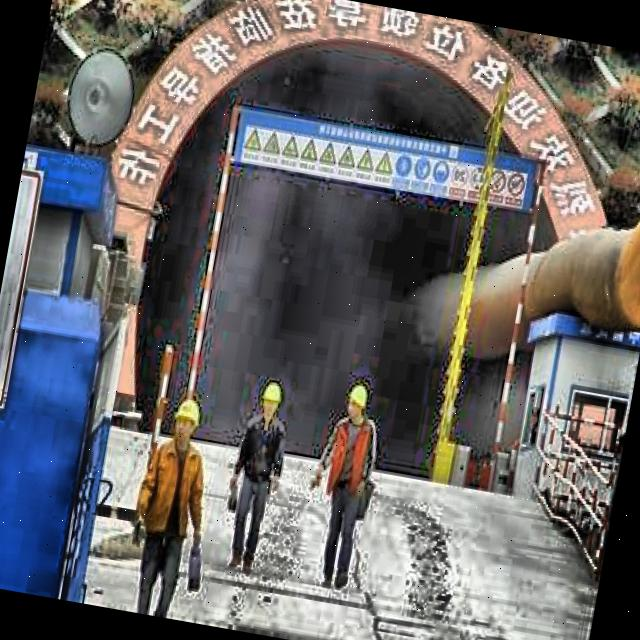helmet: (168, 392, 205, 452), (251, 378, 288, 423), (341, 378, 374, 426)
